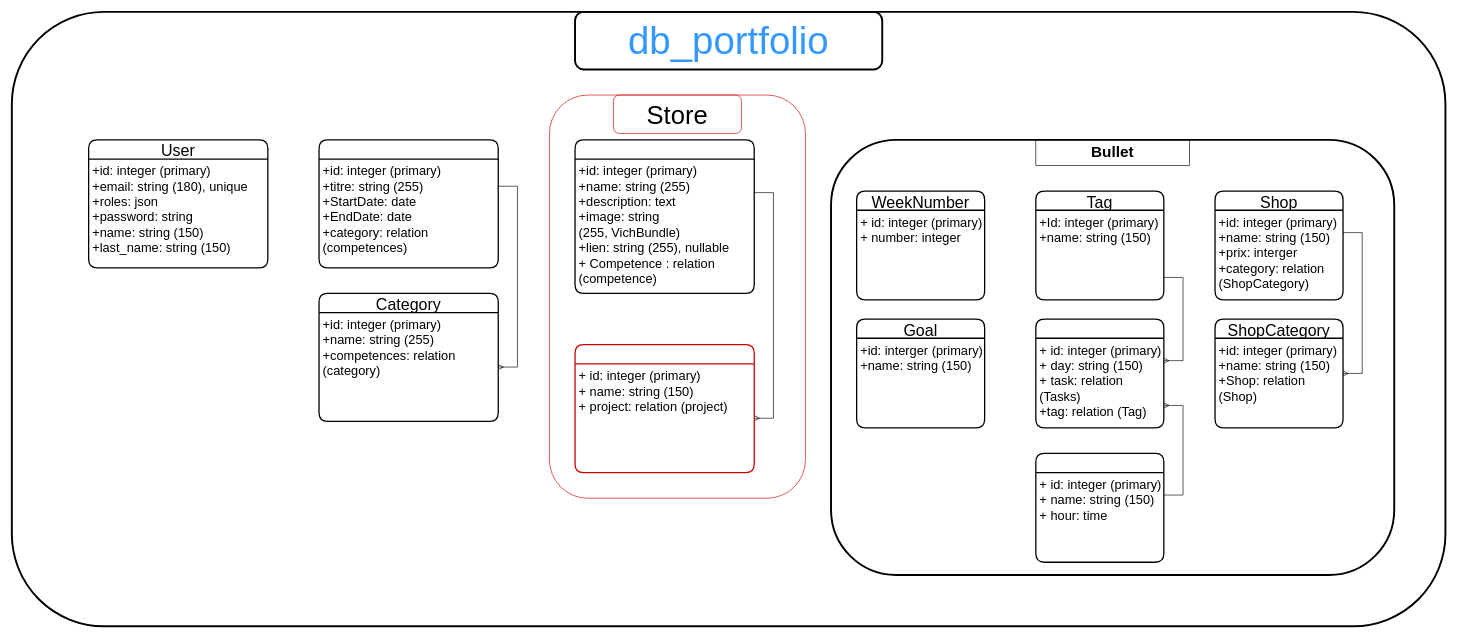
Image size: 1457x638. Some labels were removed from this diagram. Each missing label, with the box of its shape:
CompetenceProject: (574, 344, 755, 473)
DayCategory: (1035, 318, 1164, 428)
Project: (574, 139, 755, 294)
TableauCompetence: (318, 139, 499, 268)
Tasks: (1035, 452, 1164, 563)
